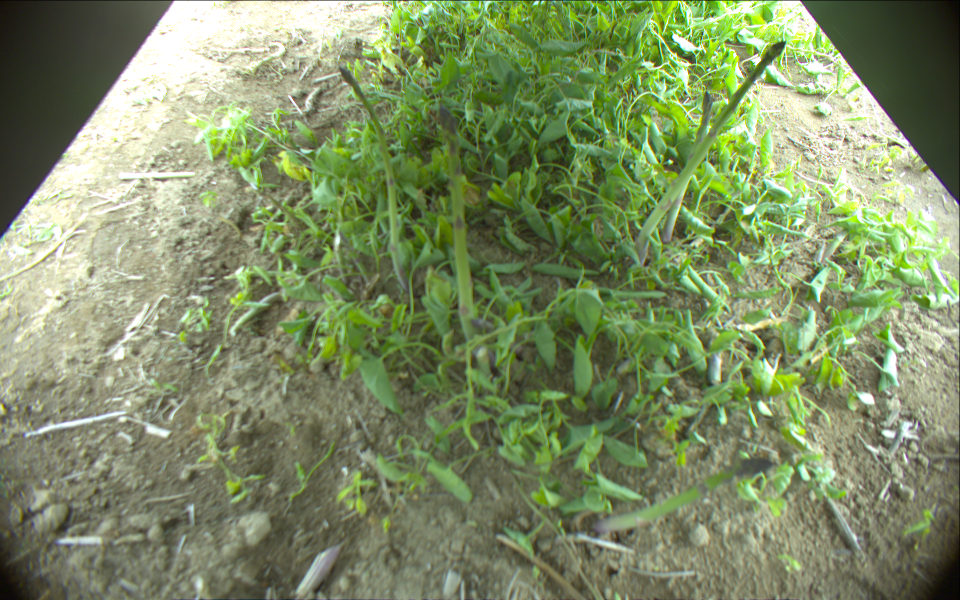aspa: (633, 40, 785, 266), (584, 457, 773, 540), (339, 65, 408, 290), (439, 109, 489, 359), (664, 92, 714, 247)
